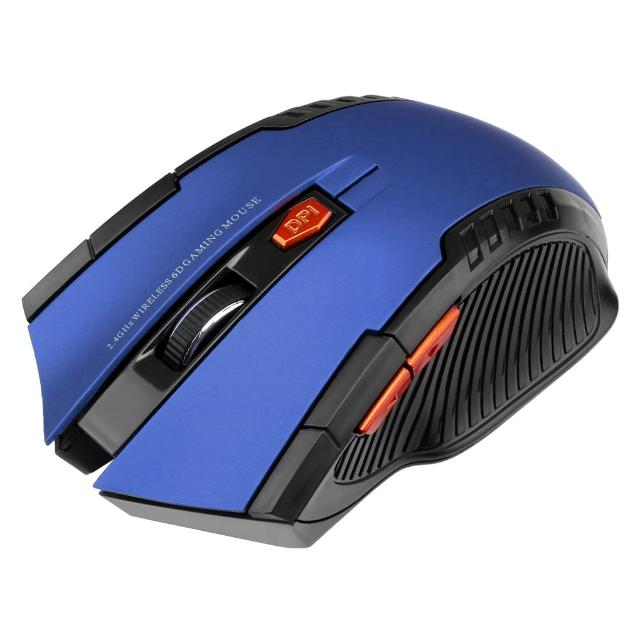Computer-Mouse: (21, 96, 621, 550)
